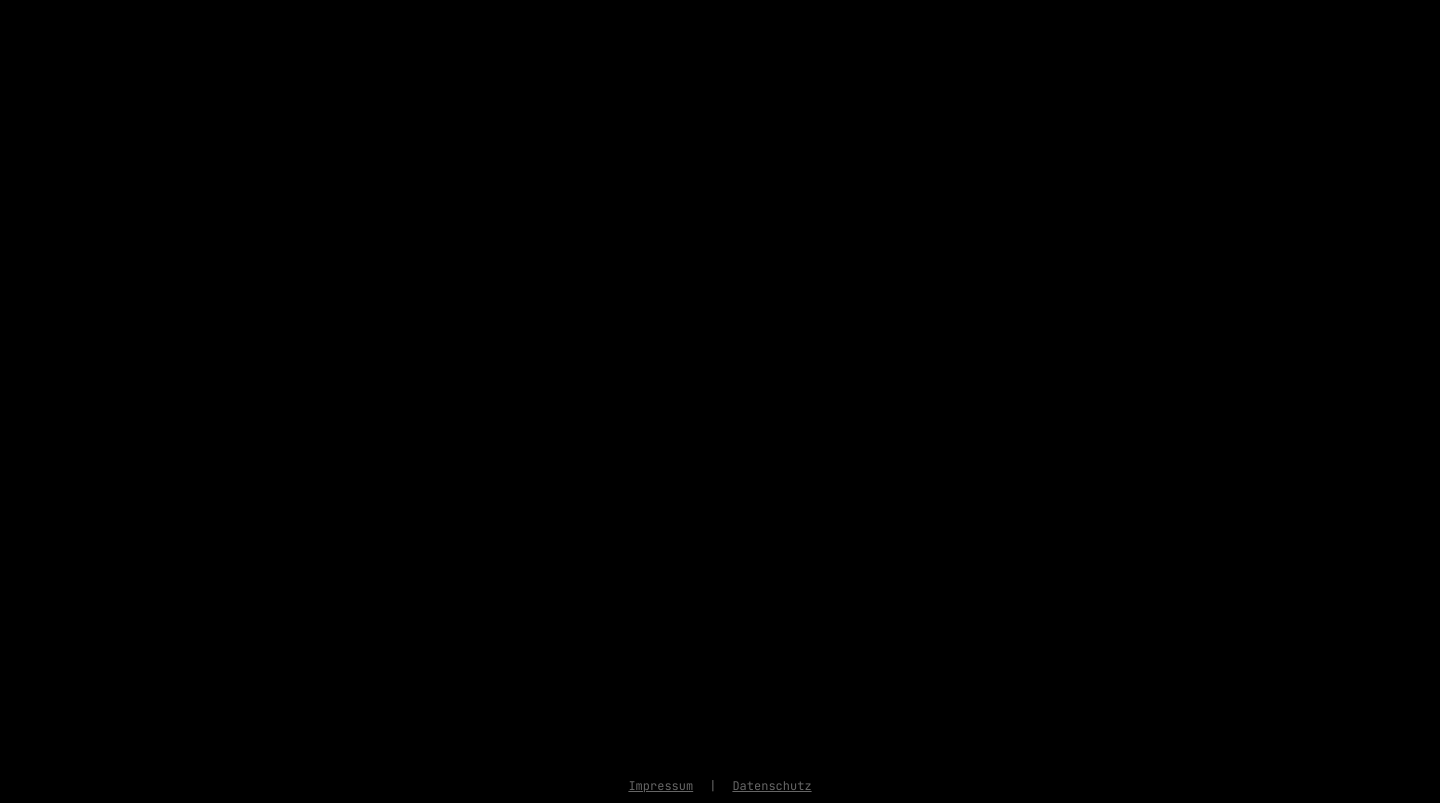
Scenario: App — central back-navigation wiring › 7. an UN-named player (never skipped/named) still has in-game back-navigation
The image size is (1440, 803).
Press Enter
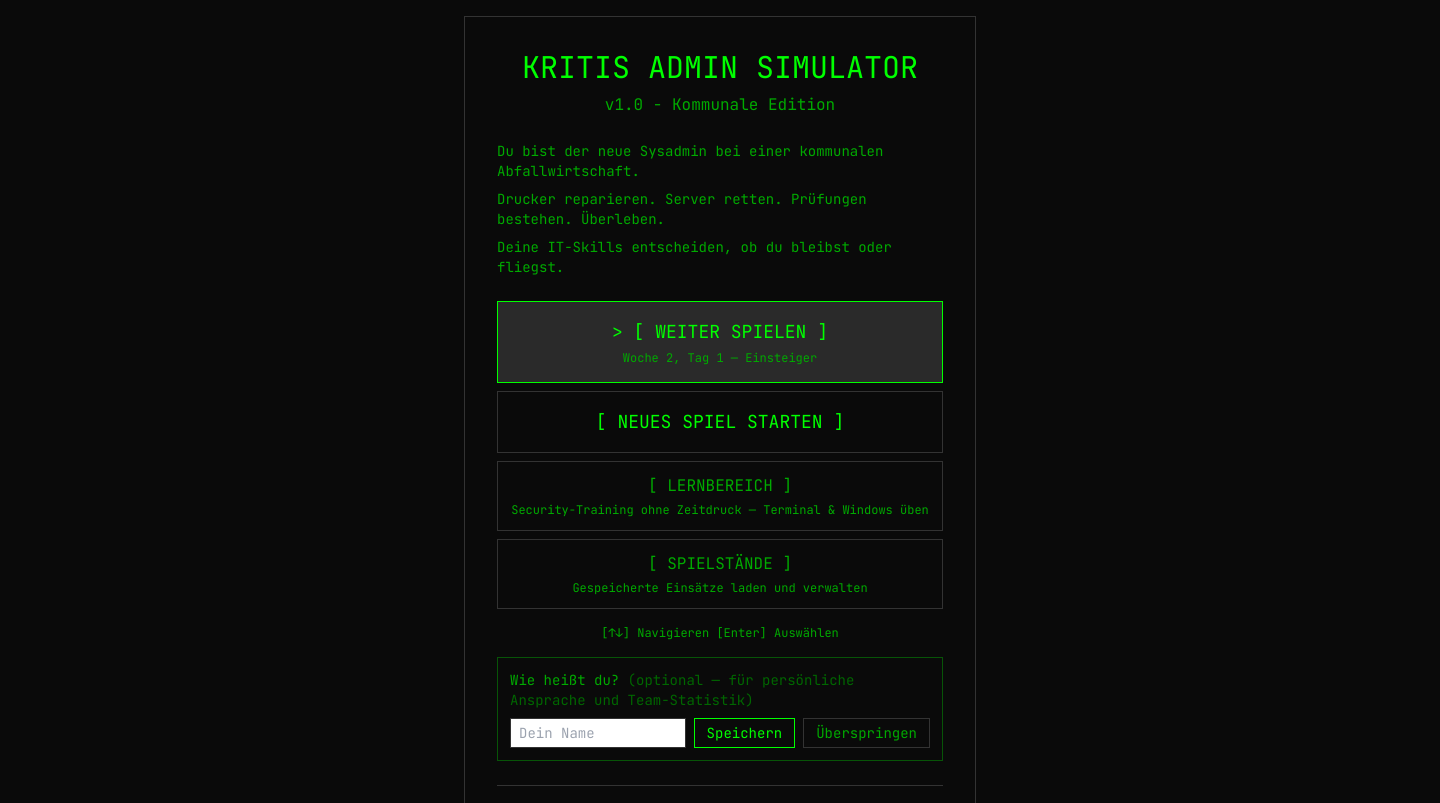
Check: the field labelled "Dein Name" is shown, box [510,718,686,748]
Click the button "> [ WEITER SPIELEN ] Woche 2, Tag 1 — Einsteiger" at x=720, y=342, box [497,301,943,383]
(page scrolled)
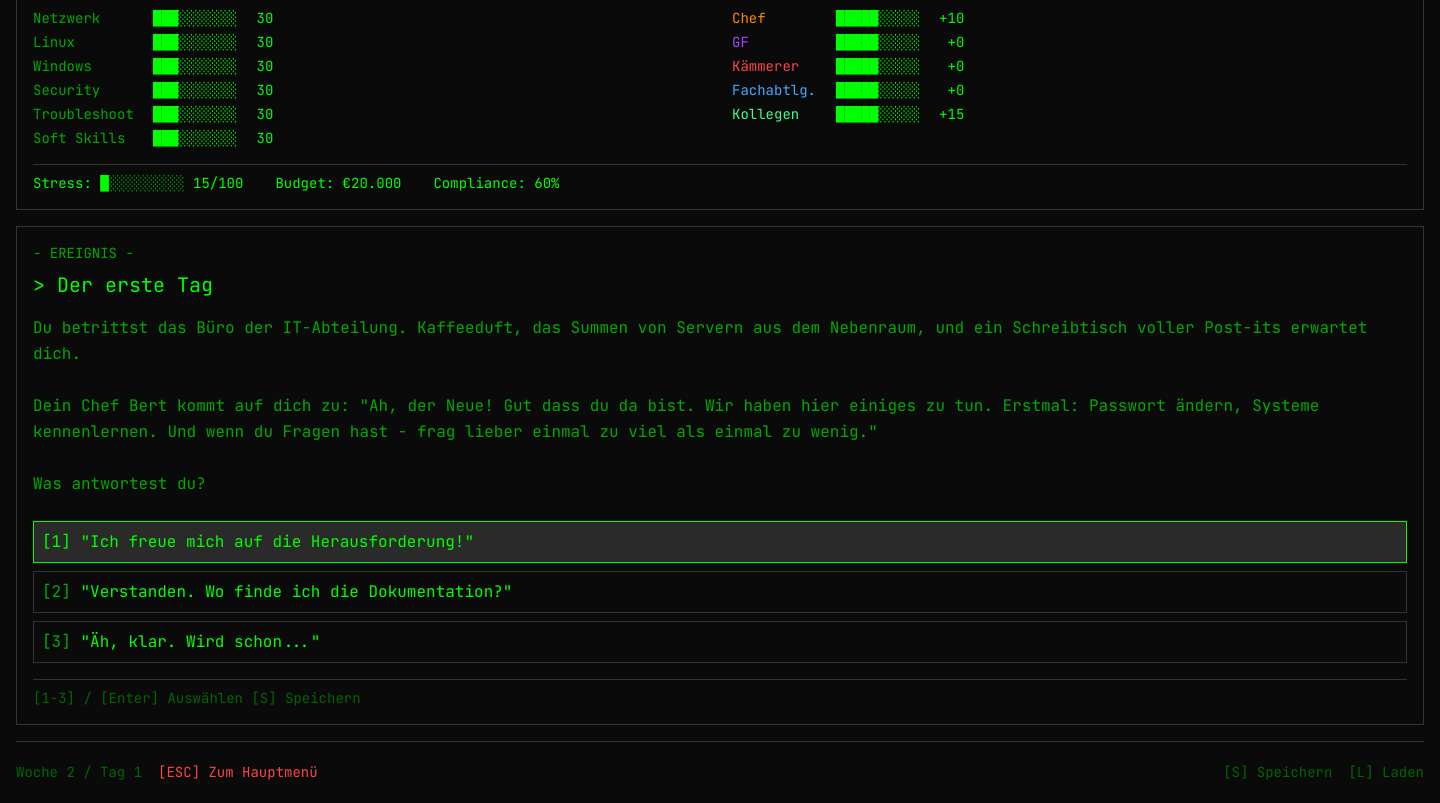
Check: the button "[ESC] Zum Hauptmenü" is shown, box [158,750,318,794]
Press Escape
(page scrolled)
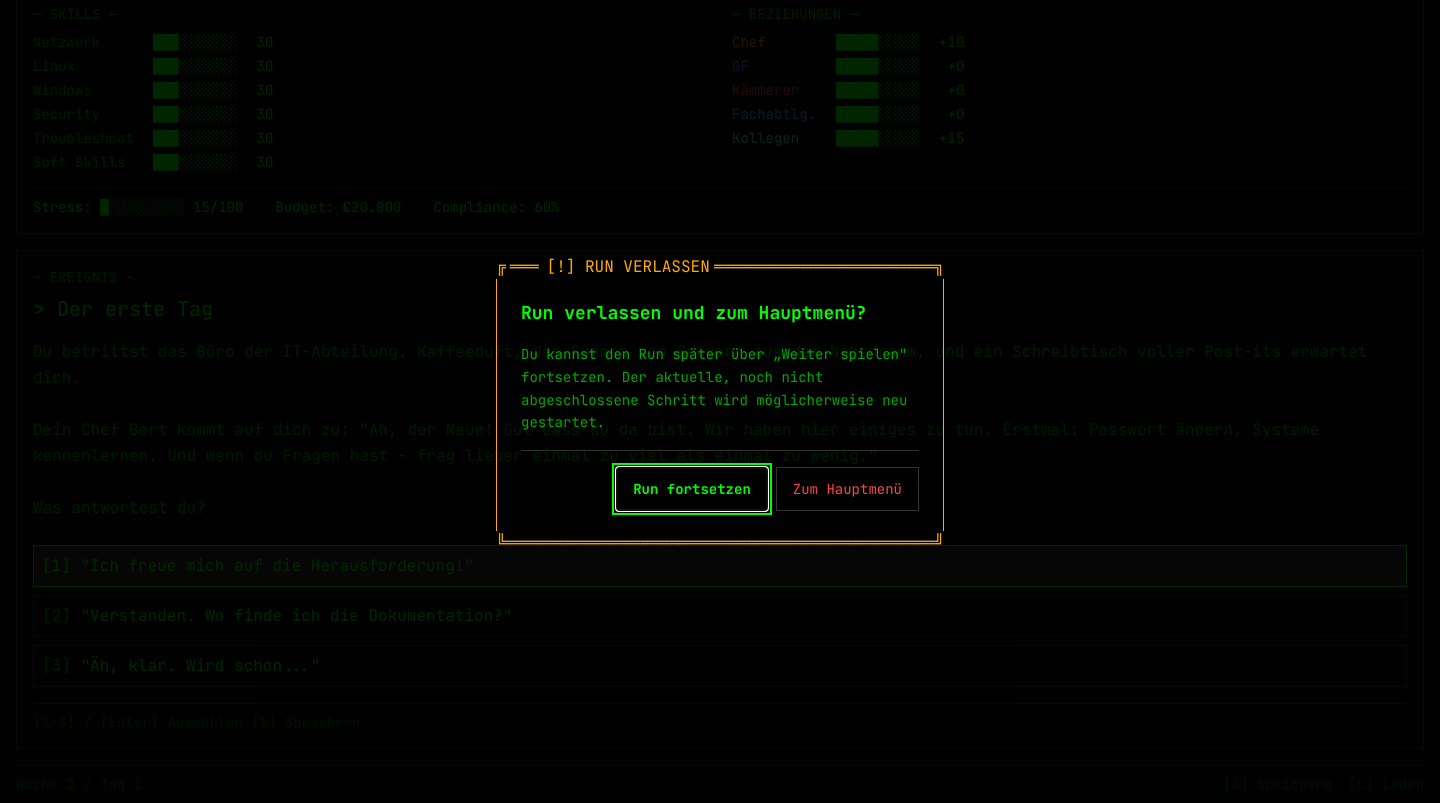
Check: the heading "Run verlassen und zum Hauptmenü?" is shown, box [521,299,919,327]
